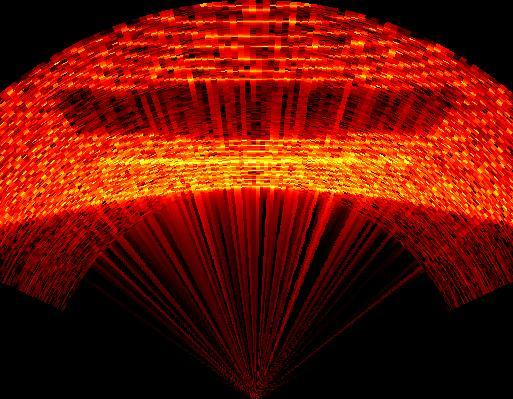pipe: (49, 84, 463, 139)
